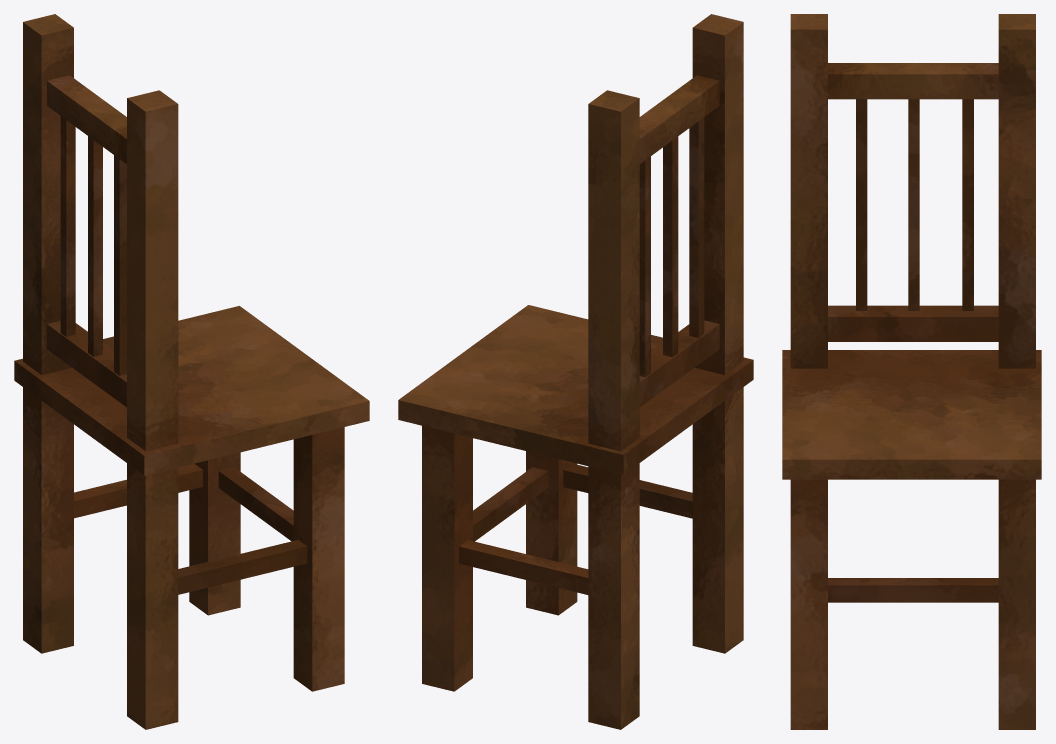
Rendered from Cadeira_MESH.fbx.
The picture shows the model from 3 angles, left to right: view 1: azimuth 30°, elevation 25°; view 2: azimuth 150°, elevation 25°; view 3: azimuth 270°, elevation 25°; orthographic projection.
Parts seen in each view (by area): view 1: Cadeira_MESH; view 2: Cadeira_MESH; view 3: Cadeira_MESH.
Part boxes in pixels (box(x1,y1,x2,y2)): Cadeira_MESH: box(14, 14, 369, 729); Cadeira_MESH: box(398, 14, 753, 729); Cadeira_MESH: box(782, 14, 1041, 729).
Size of the model in its own units: 43.35 by 114 by 43.35.
1 material, 1 textured.
